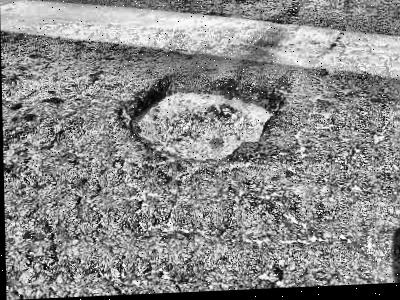pothole: (114, 69, 285, 173)
